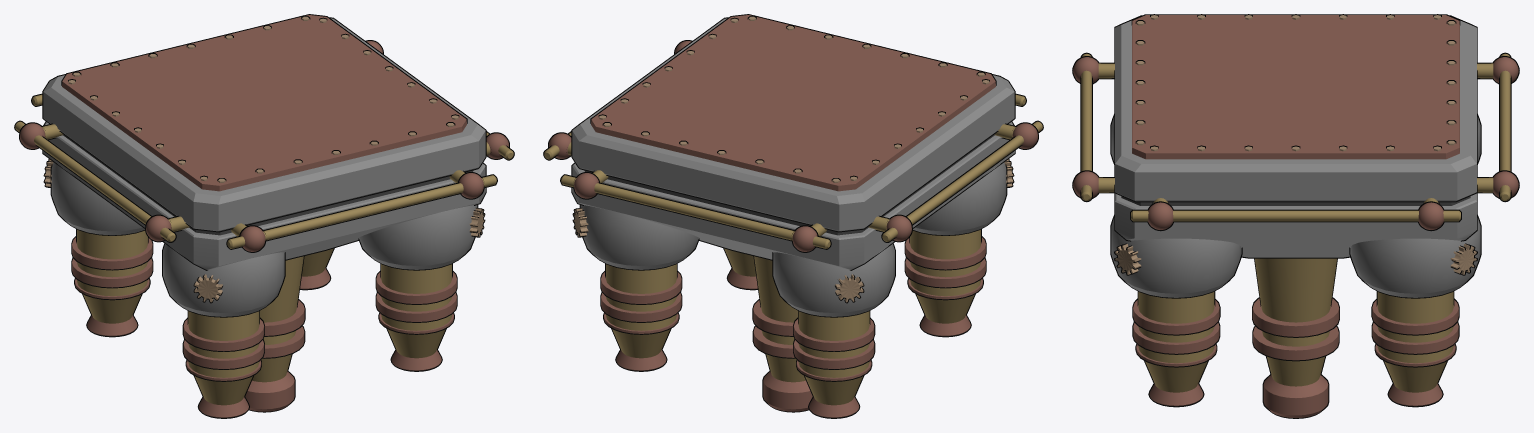
Rendered from Platform6.fbx.
3 renders of one model, left to right at view 1: azimuth 30°, elevation 25°; view 2: azimuth 150°, elevation 25°; view 3: azimuth 270°, elevation 25°, orthographic. The views are drawn at different scales.
Parts seen in each view (by area): view 1: Cube; view 2: Cube; view 3: Cube.
Part boxes in pixels (<box>): Cube: <box>14,14,514,418</box>; Cube: <box>543,14,1043,418</box>; Cube: <box>1072,14,1519,418</box>.
Size of the model in its own units: 246 by 197 by 246.
